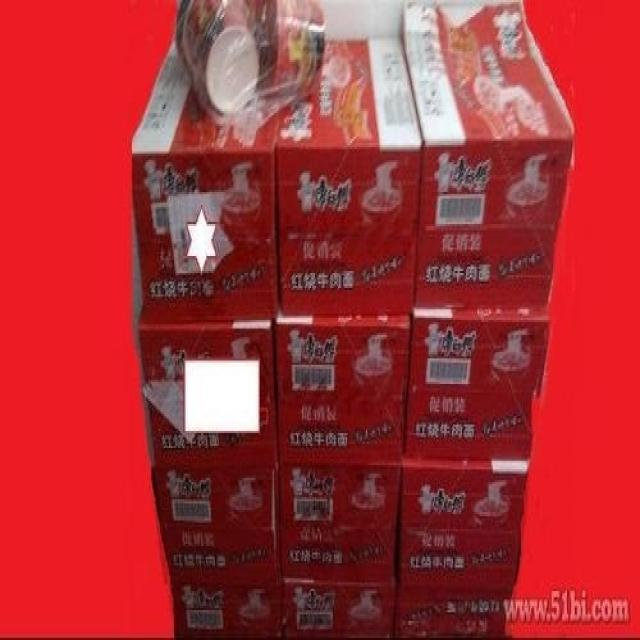box: (404, 2, 576, 308), (130, 32, 278, 320), (277, 35, 423, 314), (276, 280, 410, 465), (139, 301, 277, 467), (404, 306, 549, 459), (399, 459, 532, 591), (152, 463, 282, 587), (276, 460, 401, 582), (281, 579, 395, 635), (395, 582, 512, 633), (173, 587, 282, 638)
